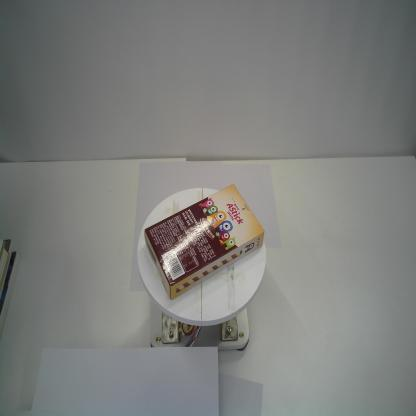Dessert: (144, 182, 265, 302)
